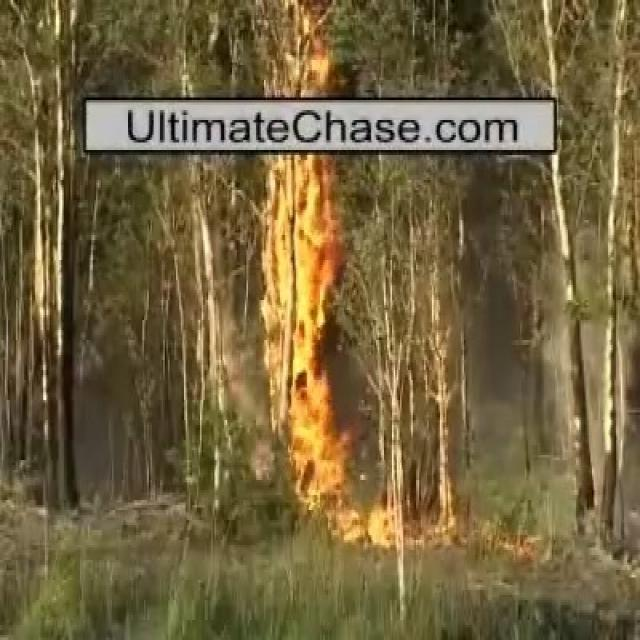fire: (275, 152, 331, 464), (364, 511, 393, 545)
